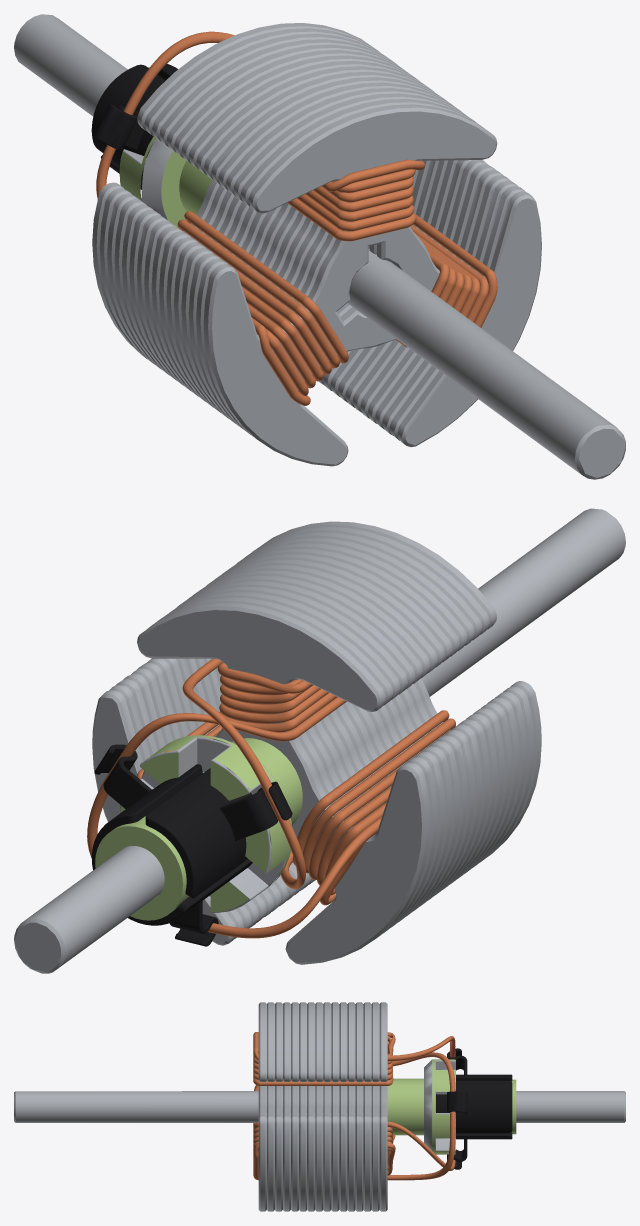
The model's file is rotor.glb.
3 views of the same model, one above another, from view 1: azimuth 30°, elevation 25°; view 2: azimuth 150°, elevation 25°; view 3: azimuth 270°, elevation 25° (orthographic). The views are drawn at different scales.
Parts seen in each view (by area): view 1: Part1 rotor; view 2: Part1 rotor; view 3: Part1 rotor.
Part boxes in pixels (box(x1,y1,x2,y2)): Part1 rotor: box(14, 14, 625, 479); Part1 rotor: box(14, 508, 625, 973); Part1 rotor: box(14, 1002, 625, 1211).
Bounding box in the file's own units: 0.013 × 0.0128 × 0.038.
